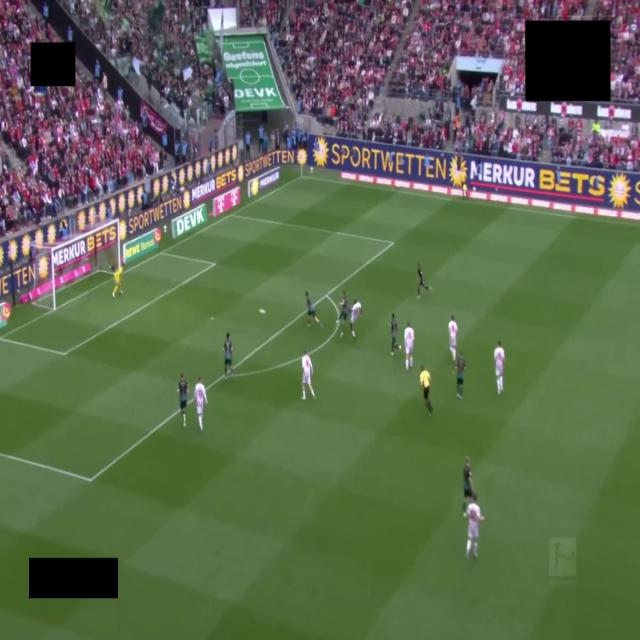player: (465, 494, 484, 557), (194, 377, 207, 431), (463, 456, 474, 514), (302, 351, 315, 399), (305, 292, 321, 327), (337, 291, 349, 337), (178, 373, 188, 426), (494, 341, 504, 394), (404, 322, 414, 371), (417, 264, 431, 297), (350, 300, 362, 338), (390, 314, 401, 355), (456, 352, 465, 399), (448, 315, 457, 361), (224, 333, 233, 378), (112, 265, 123, 297)
referee: (420, 366, 432, 415)
